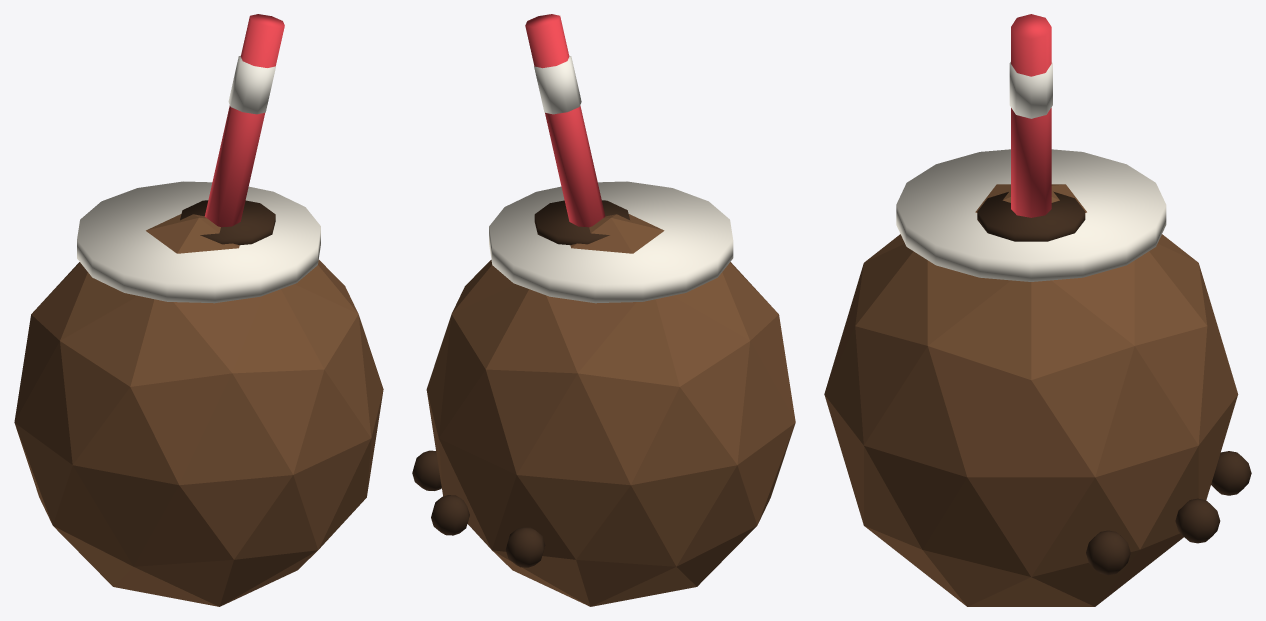
File: coconut.glb
3 views of the same model, side by side, from view 1: azimuth 30°, elevation 25°; view 2: azimuth 150°, elevation 25°; view 3: azimuth 270°, elevation 25° (orthographic). The views are drawn at different scales.
Visible parts, largest first — view 1: coconut; view 2: coconut; view 3: coconut.
Boxes of the visible parts, bbox=[...] form: coconut: bbox=[14, 14, 383, 606]; coconut: bbox=[412, 14, 795, 606]; coconut: bbox=[824, 14, 1251, 606].
Bounding box in the file's own units: 0.8928 × 1.51 × 0.9498.
